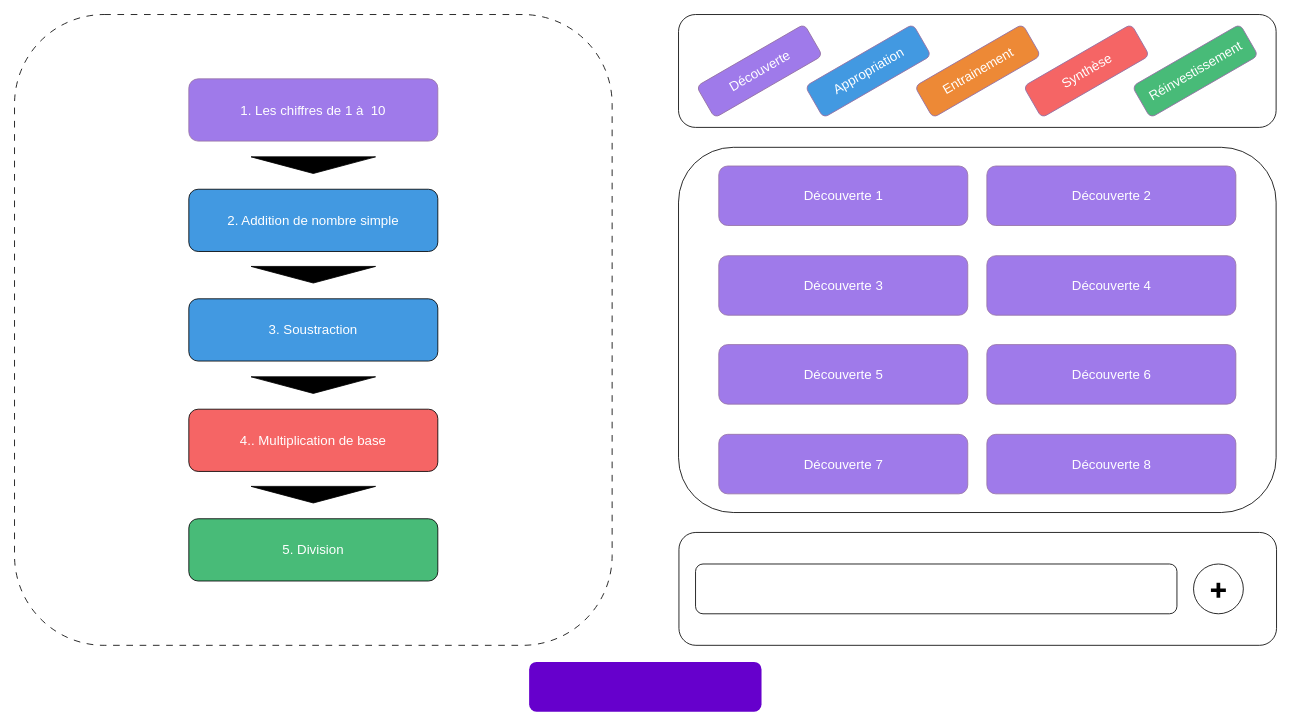
Some shapes in this 1291 by 726 pixel diagram are drawn without their labels. Each missing label, with the box of its shape:
Décrivez de nouveaux items: (695, 563, 1177, 614)
Valider ma Séquence: (529, 662, 761, 711)
